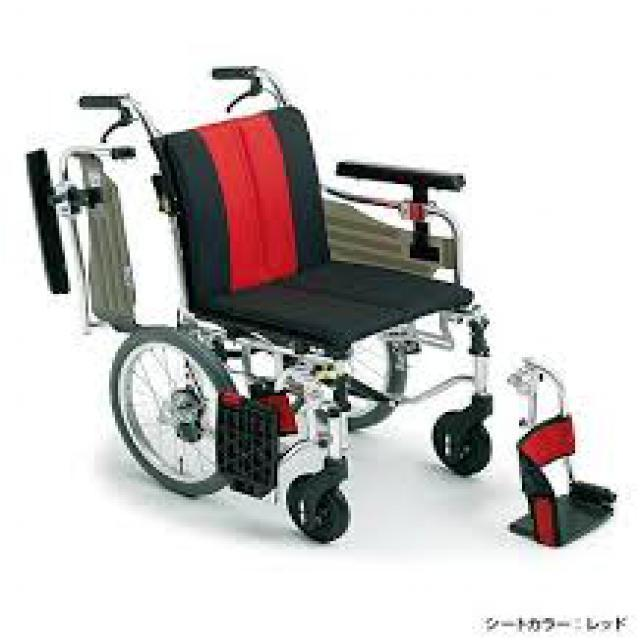wheelchair: (24, 55, 498, 547)
